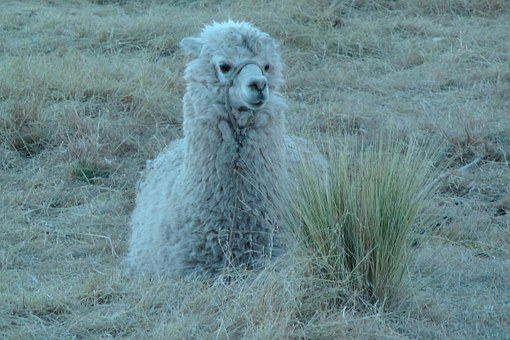alpaca: (130, 19, 333, 281)
